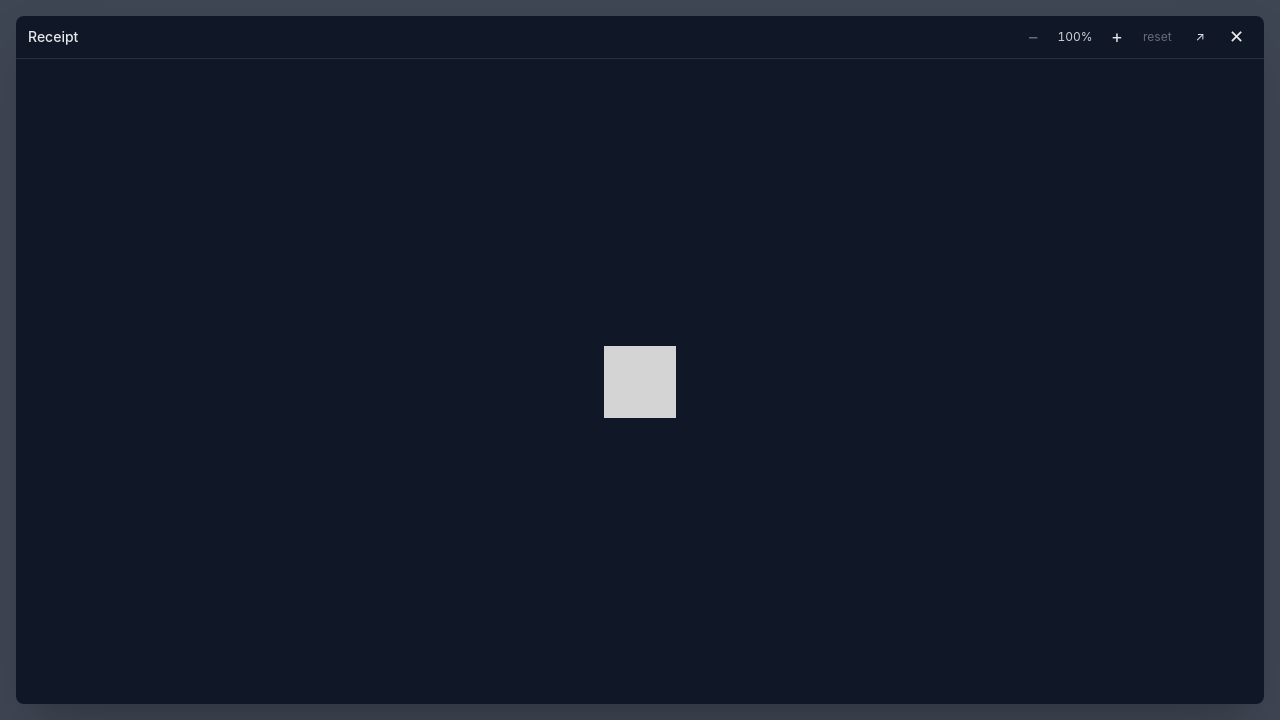
Test: DocumentViewer (8.18, generalized 8.27) › renders an image with zoom controls and zooms in
Expected: the text with test id "viewer-zoom-level" reads "100%", [1058,29,1093,44]
Expected: the button with test id "viewer-zoom-reset" is disabled, [1135,25,1180,49]
Step 1. Click the button with test id "viewer-zoom-in" → (1117, 37), box [1103,24,1131,50]
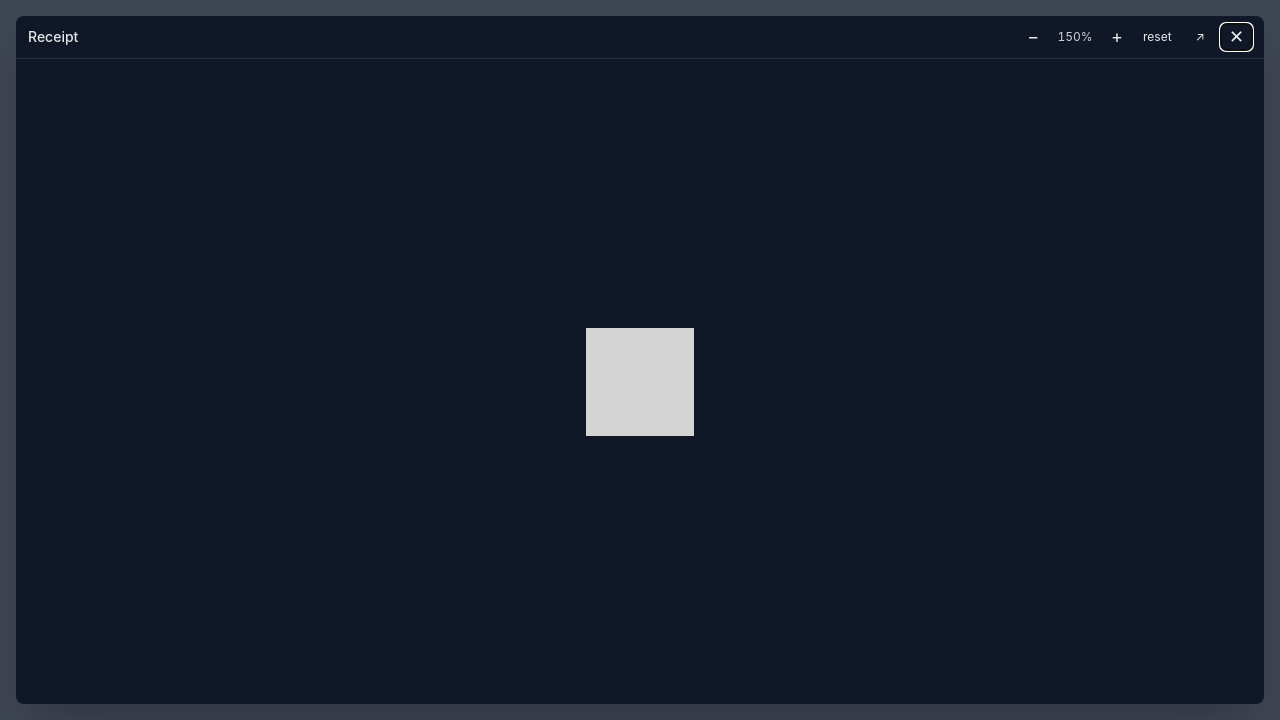
Expected: the text with test id "viewer-zoom-level" reads "150%", [1058,29,1093,44]
Expected: the button with test id "viewer-zoom-reset" is enabled, [1135,25,1180,49]
